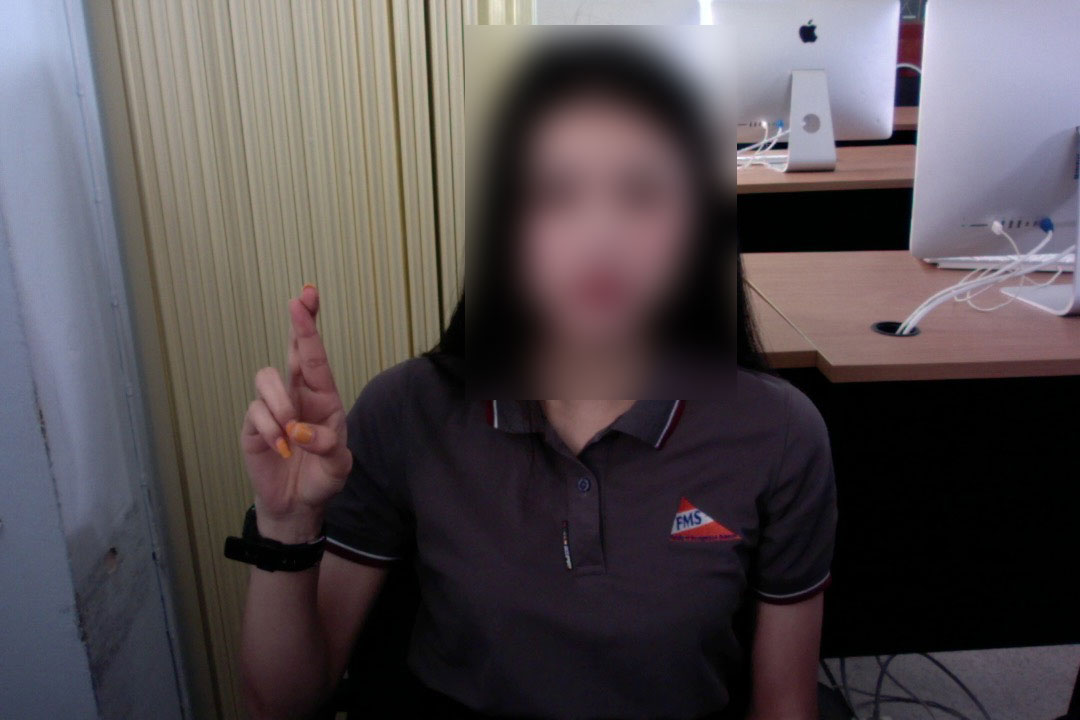rao: (239, 282, 369, 521)
